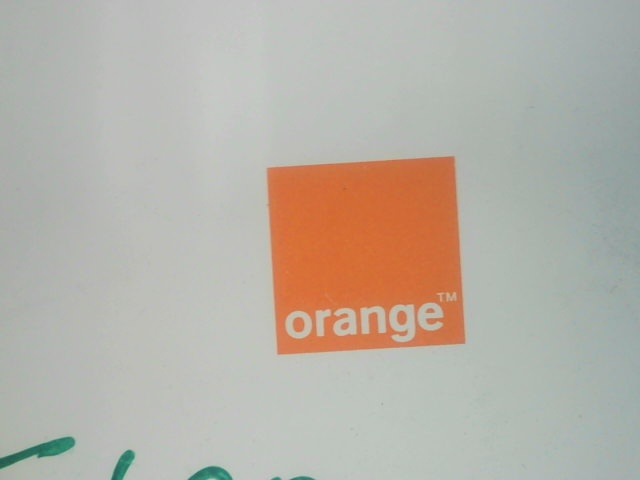AR_Orange: (252, 154, 475, 358)
